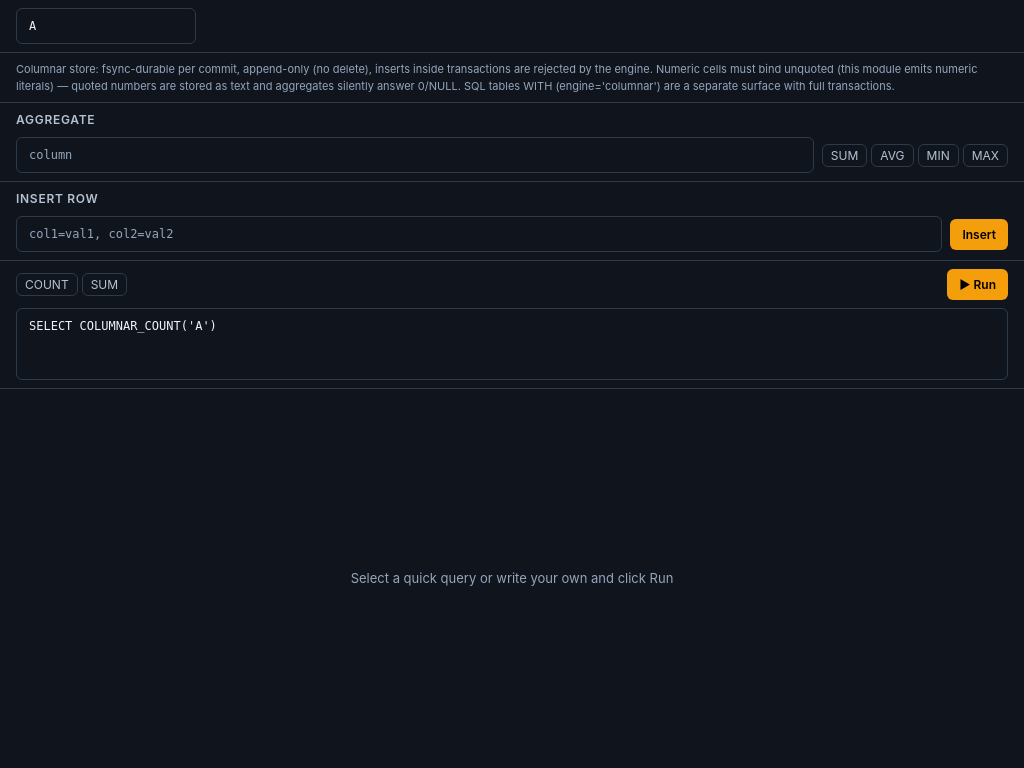
Test case: Columnar actual component request and draft ownership › late c1 query cannot replace c2 rows or release its running state
Replace the text in the text box with "SELECT marker" at (512, 344), box [16,308,1008,380]
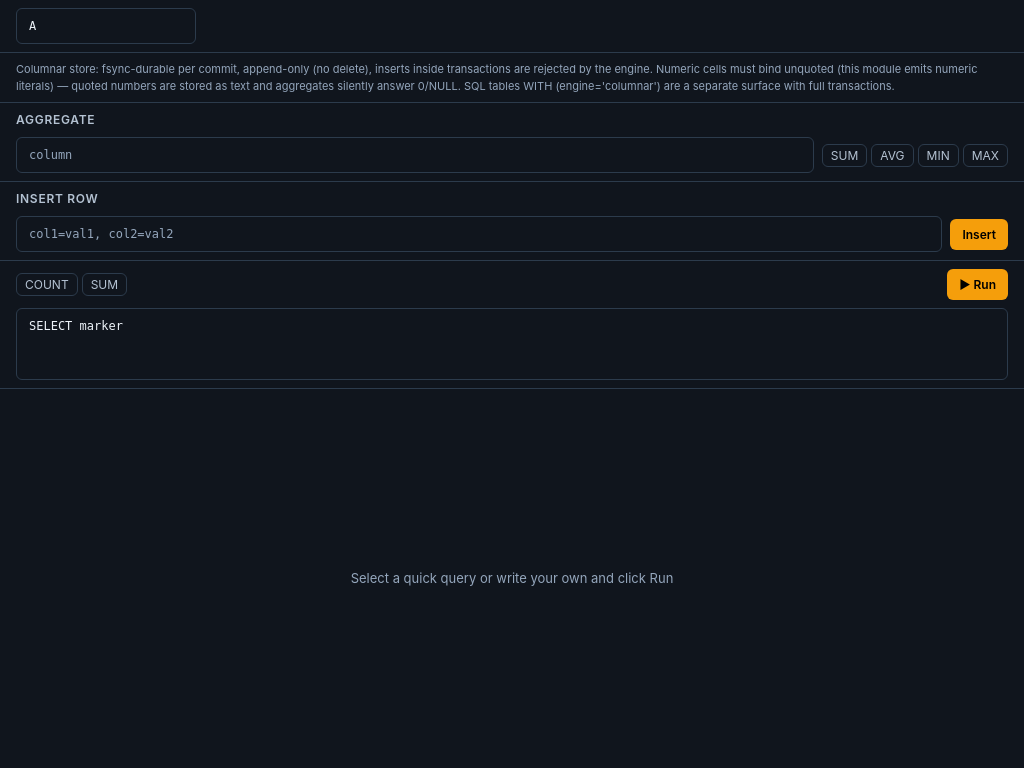
Click the button "▶ Run" at (978, 284), box [947,269,1008,300]
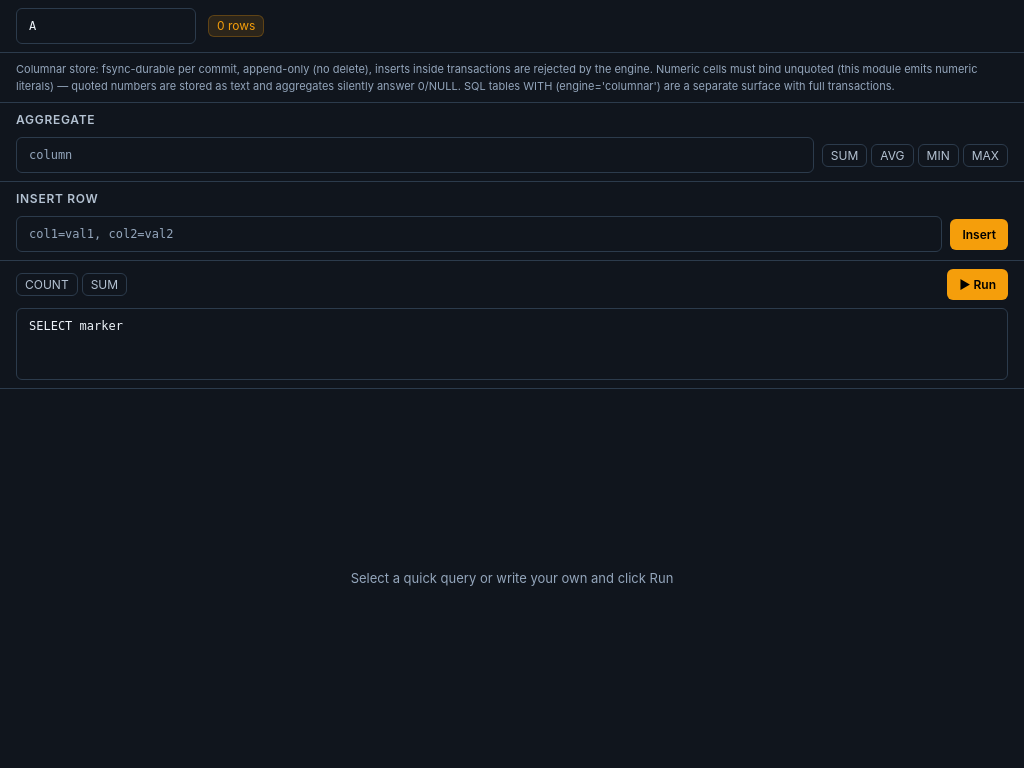
Click the button "▶ Run" at (978, 284), box [947,269,1008,300]
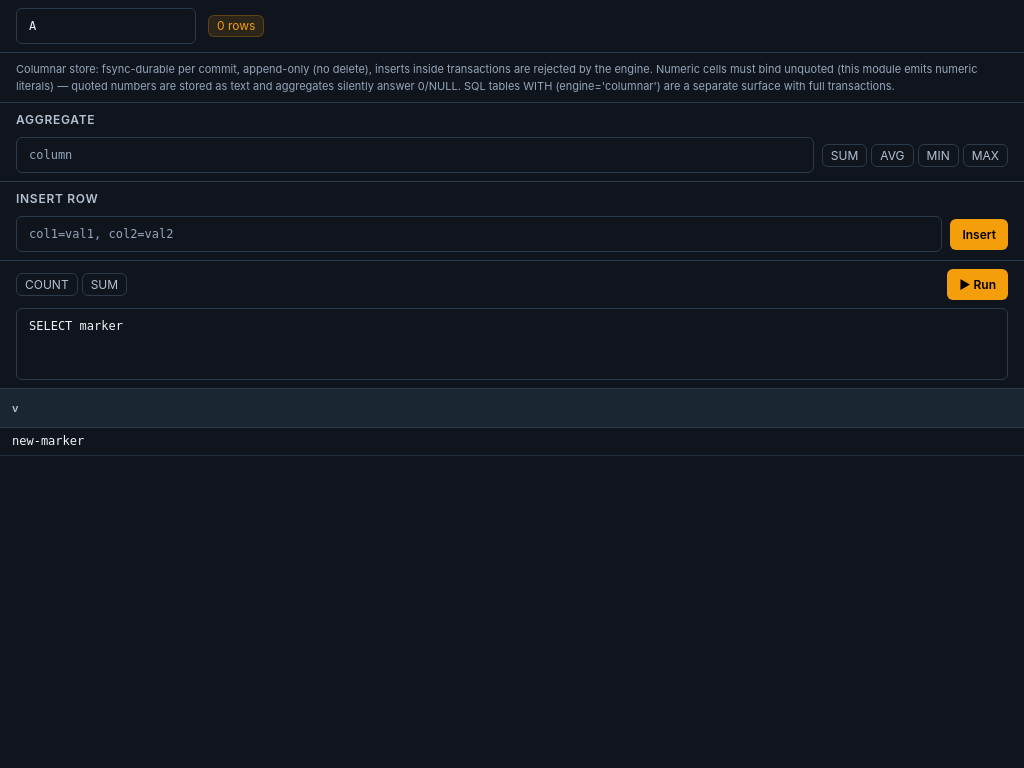
Result: the text "new-marker" is shown at [0,427,1023,455]
